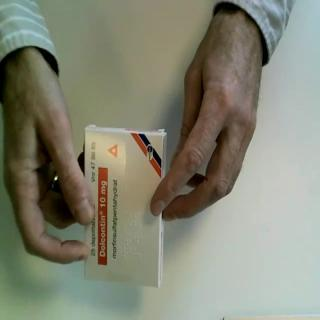dolcontin10mg: (83, 122, 169, 291)
